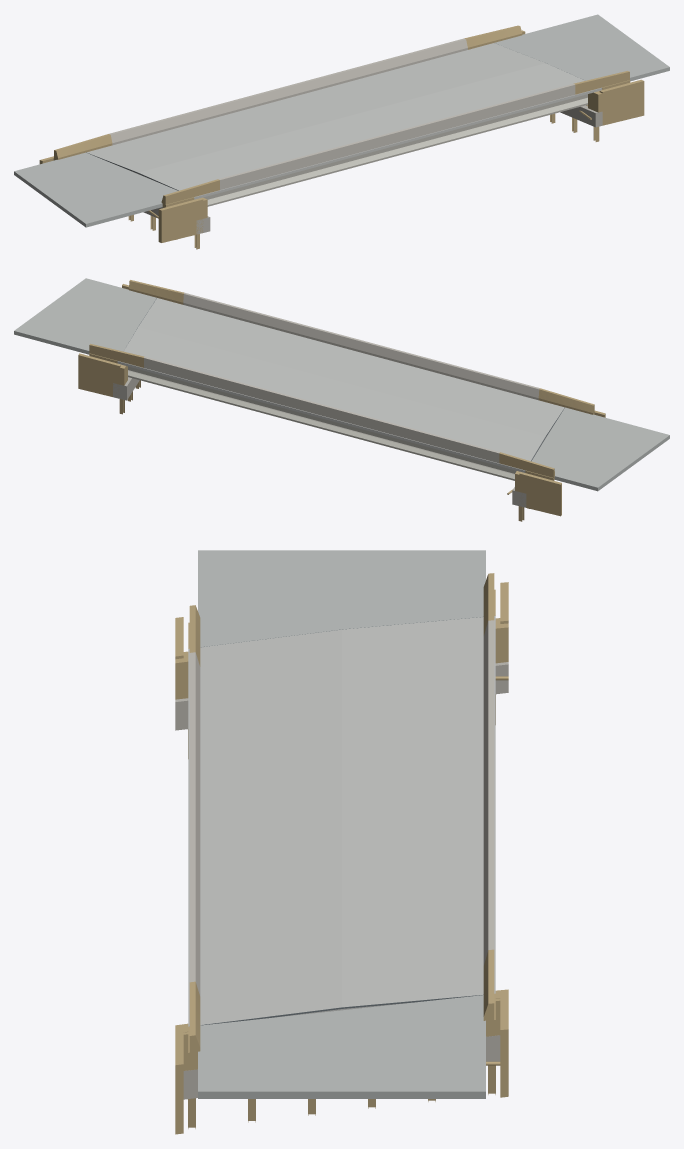
3 renders of one model, top to bottom at view 1: azimuth 30°, elevation 25°; view 2: azimuth 150°, elevation 25°; view 3: azimuth 270°, elevation 25°, orthographic. The views are drawn at different scales.
Visible parts, largest first — view 1: deck, approach_-1, approach_1, FC_rail_1, FC_rail_-1, beam_0_0, wing_1_-1, wing_0_-1, TFC_transition_-1_1, TFC_transition_1_1, TFC_transition_-1_-1, TFC_transition_1_-1 (+1 smaller); view 2: deck, approach_-1, approach_1, FC_rail_-1, beam_0_3, FC_rail_1, wing_1_1, wing_0_1, TFC_transition_-1_-1, TFC_transition_1_-1, TFC_transition_-1_1, TFC_transition_1_1 (+1 smaller); view 3: deck, approach_1, approach_-1, FC_rail_1, FC_rail_-1, wing_1_-1, wing_1_1, cap_1.
Part boxes in pixels (<box>): deck: <box>86,43,601,199</box>; approach_-1: <box>14,152,177,227</box>; approach_1: <box>494,14,669,81</box>; FC_rail_1: <box>109,38,467,145</box>; FC_rail_-1: <box>218,84,575,189</box>; beam_0_0: <box>203,94,587,206</box>; wing_1_-1: <box>599,79,644,125</box>; wing_0_-1: <box>158,198,203,242</box>; TFC_transition_-1_1: <box>54,134,112,159</box>; TFC_transition_1_1: <box>464,25,522,49</box>; TFC_transition_-1_-1: <box>161,179,219,204</box>; TFC_transition_1_-1: <box>573,71,629,94</box>; deck: <box>117,298,564,472</box>; approach_-1: <box>531,407,669,491</box>; approach_1: <box>14,278,156,354</box>; FC_rail_-1: <box>183,293,539,400</box>; beam_0_3: <box>128,366,516,480</box>; FC_rail_1: <box>144,357,499,463</box>; wing_1_1: <box>78,353,120,396</box>; wing_0_1: <box>519,472,561,516</box>; TFC_transition_-1_-1: <box>538,388,594,414</box>; TFC_transition_1_-1: <box>129,280,184,304</box>; TFC_transition_-1_1: <box>499,452,554,477</box>; TFC_transition_1_1: <box>89,343,144,367</box>; deck: <box>188,616,495,1026</box>; approach_1: <box>198,995,485,1098</box>; approach_-1: <box>198,550,485,647</box>; FC_rail_1: <box>483,620,494,965</box>; FC_rail_-1: <box>189,652,200,995</box>; wing_1_-1: <box>175,1025,183,1134</box>; wing_1_1: <box>500,990,508,1097</box>; cap_1: <box>175,662,508,730</box>.
Size of the model in its own units: 51.27 by 6.04 by 12.66.
